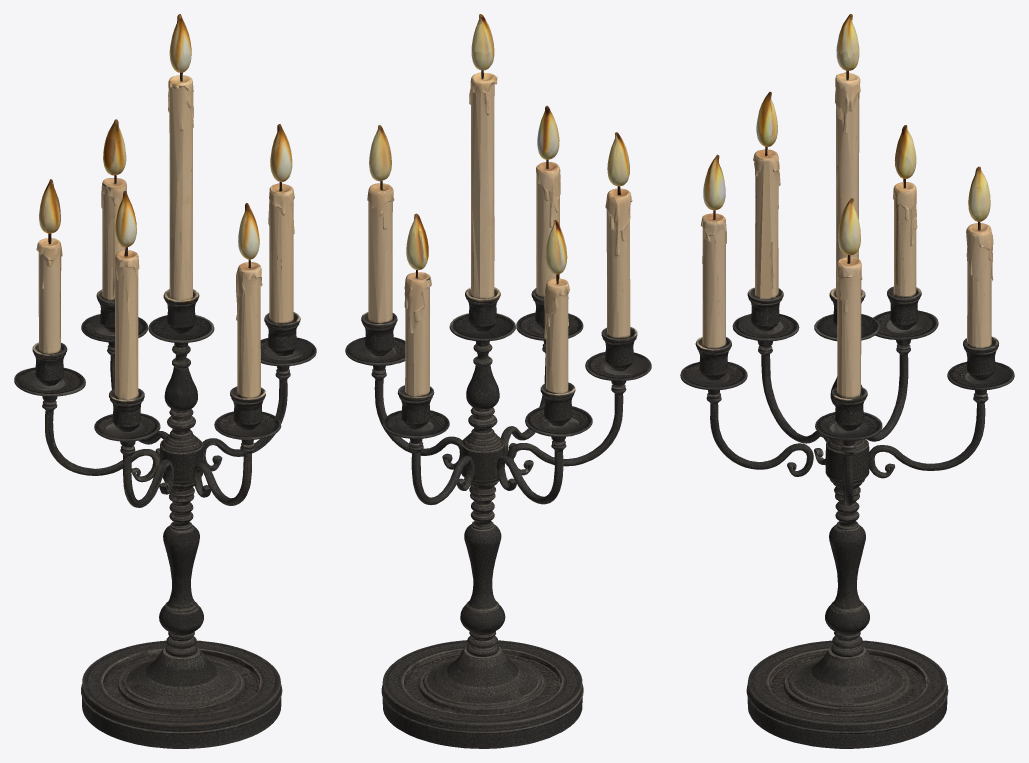
Rendered from candelabrum.glb.
The picture shows the model from 3 angles, left to right: view 1: azimuth 30°, elevation 25°; view 2: azimuth 150°, elevation 25°; view 3: azimuth 270°, elevation 25°; orthographic projection.
Size of the model in its own units: 0.7619 by 1.9 by 0.8316.
Materials: 1 (1 with a texture image).
